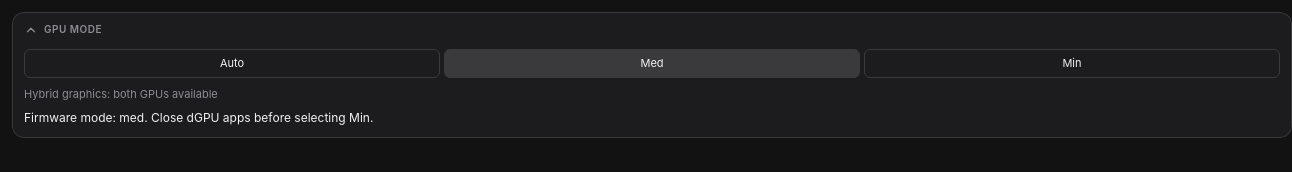
Test: requires restart after a MUX change and prevents further GPU writes
Step 1. Click the button "Med" → (652, 63), box [444, 49, 860, 78]
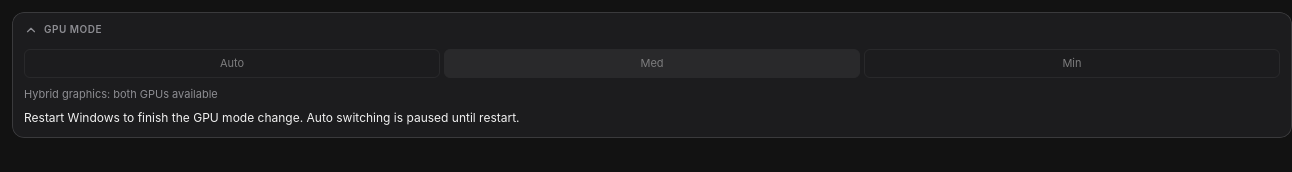
Result: the text "Auto switching is paused" is shown at [24, 110, 520, 125]
Result: the button "Auto" is disabled at [24, 49, 440, 78]
Result: the button "Med" is disabled at [444, 49, 860, 78]
